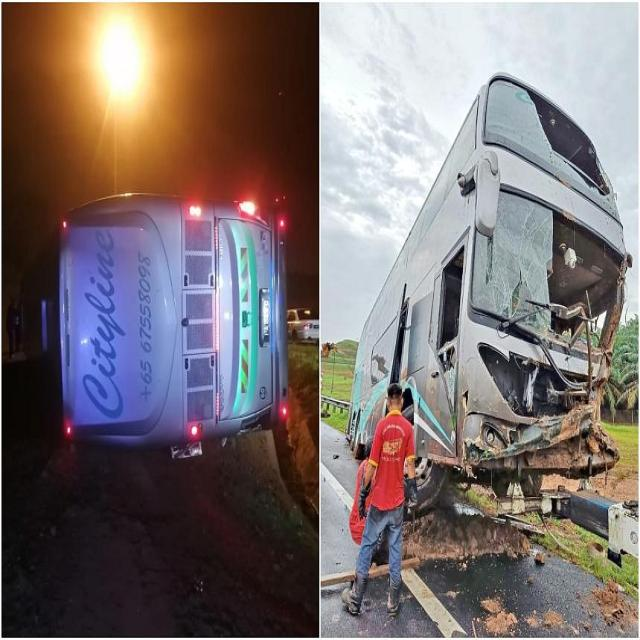Accident: (349, 69, 630, 501), (5, 190, 291, 473)
